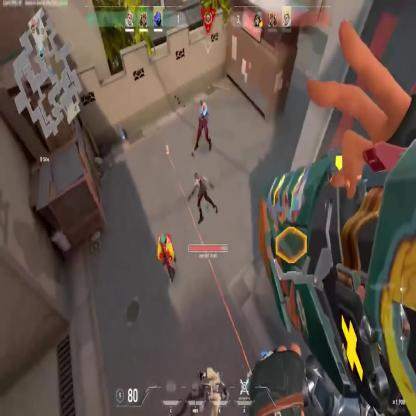enemy: (194, 98, 212, 153), (157, 233, 176, 284)
enemy_head: (160, 233, 166, 244), (202, 103, 207, 111)
